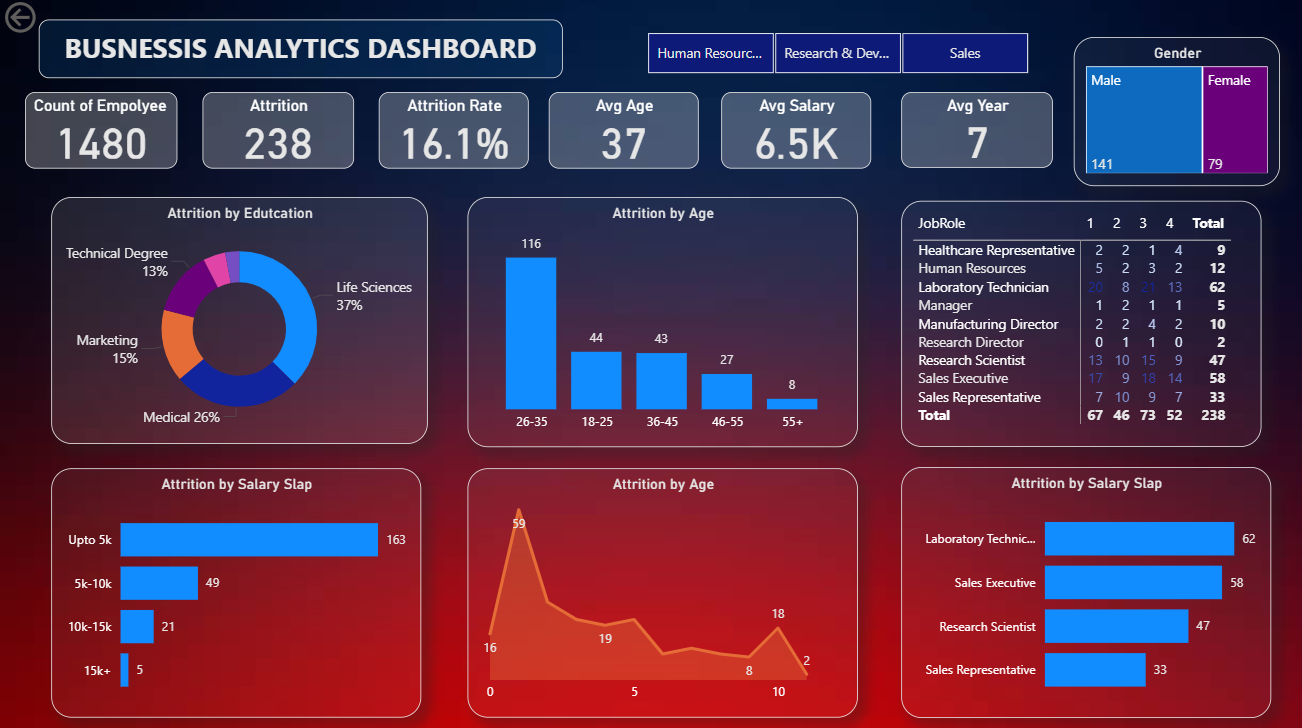

What the dashboard file says about the page in this screenshot:
{"tool":"powerbi","page":{"name":"Page 1","canvas":[1280,720],"ordinal":0},"visuals":[{"type":"card","title":"Count of Empolyee","fields":{"Values":["Sum(HR_Analytics.EmployeeCount)"]},"box":[24.5,93.3,149.7,74.8],"z":0},{"type":"card","title":"Attrition","fields":{"Values":["Sum(HR_Analytics.AttritionCount)"]},"box":[198.8,93.3,148.5,74.8],"z":1000},{"type":"card","title":"Avg Age","fields":{"Values":["Avg(HR_Analytics.Age)"]},"box":[538.7,93.3,147.2,74.8],"z":2000},{"type":"card","title":"Attrition Rate","fields":{"Values":["HR_Analytics.AttritionRate"]},"box":[371.8,93.3,147.2,74.8],"z":3000},{"type":"card","title":"Avg Year","fields":{"Values":["Avg(HR_Analytics.YearsAtCompany)"]},"box":[884.6,93.6,148.7,74.4],"z":4000},{"type":"card","title":"Avg Salary","fields":{"Values":["Avg(HR_Analytics.MonthlyIncome)"]},"box":[708,93.3,147.2,74.8],"z":5000},{"type":"actionButton","box":[0,0,100,40],"z":6000},{"type":"donutChart","title":"Attrition by Edutcation","fields":{"Category":["HR_Analytics.EducationField"],"Y":["Sum(HR_Analytics.AttritionCount)"]},"box":[50,196.2,369.2,242.3],"z":7000},{"type":"columnChart","title":"Attrition by Age","fields":{"Category":["HR_Analytics.AgeGroup"],"Y":["Sum(HR_Analytics.AttritionCount)"]},"box":[459,196.2,362.8,246.2],"z":8000},{"type":"pivotTable","title":"Job Satisfaction","fields":{"Rows":["HR_Analytics.JobRole"],"Columns":["HR_Analytics.JobSatisfaction"],"Values":["Sum(HR_Analytics.AttritionCount)"]},"box":[894.9,200,343.6,242.3],"z":9000},{"type":"barChart","title":"Attrition by Salary Slap","fields":{"Category":["HR_Analytics.SalarySlab"],"Y":["Sum(HR_Analytics.AttritionCount)"]},"box":[50,462.8,362.8,244.9],"z":10000},{"type":"barChart","title":"Attrition by Salary Slap","fields":{"Category":["HR_Analytics.JobRole"],"Y":["Sum(HR_Analytics.AttritionCount)"]},"box":[884.6,461.5,362.8,246.2],"z":11000},{"type":"areaChart","title":"Attrition by Age","fields":{"Category":["HR_Analytics.YearsAtCompany"],"Y":["Sum(HR_Analytics.AttritionCount)"]},"box":[459,462.8,383.3,244.9],"z":12000},{"type":"treemap","title":"Gender","fields":{"Group":["HR_Analytics.Gender"],"Values":["Sum(HR_Analytics.AttritionCount)"]},"box":[1053.8,39.7,202.6,146.2],"z":13000},{"type":"slicer","fields":{"Values":["HR_Analytics.Department"]},"box":[612.8,30.8,420.5,48.7],"z":14000},{"type":"textbox","box":[38.5,21.8,514.1,57.7],"z":15000}]}

Visuals, with their boxes in screenshot pixels (x1, y1, x2, y2), scaled from the page's 1280x720 canvas onto the 1302x728 screenshot:
"Count of Empolyee" card: 25 94 177 170
"Attrition" card: 202 94 353 170
"Avg Age" card: 548 94 698 170
"Attrition Rate" card: 378 94 528 170
"Avg Year" card: 900 95 1051 170
"Avg Salary" card: 720 94 870 170
actionButton: 0 0 102 40
"Attrition by Edutcation" donutChart: 51 198 426 443
"Attrition by Age" columnChart: 467 198 836 447
"Job Satisfaction" pivotTable: 910 202 1260 447
"Attrition by Salary Slap" barChart: 51 468 420 716
"Attrition by Salary Slap" barChart: 900 467 1269 716
"Attrition by Age" areaChart: 467 468 857 716
"Gender" treemap: 1072 40 1278 188
slicer - HR_Analytics.Department: 623 31 1051 80
textbox: 39 22 562 80
